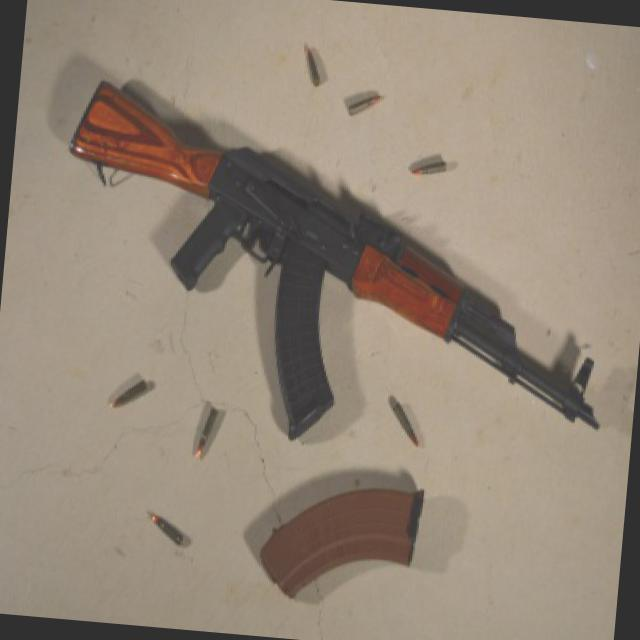long weapon: (39, 66, 625, 460)
